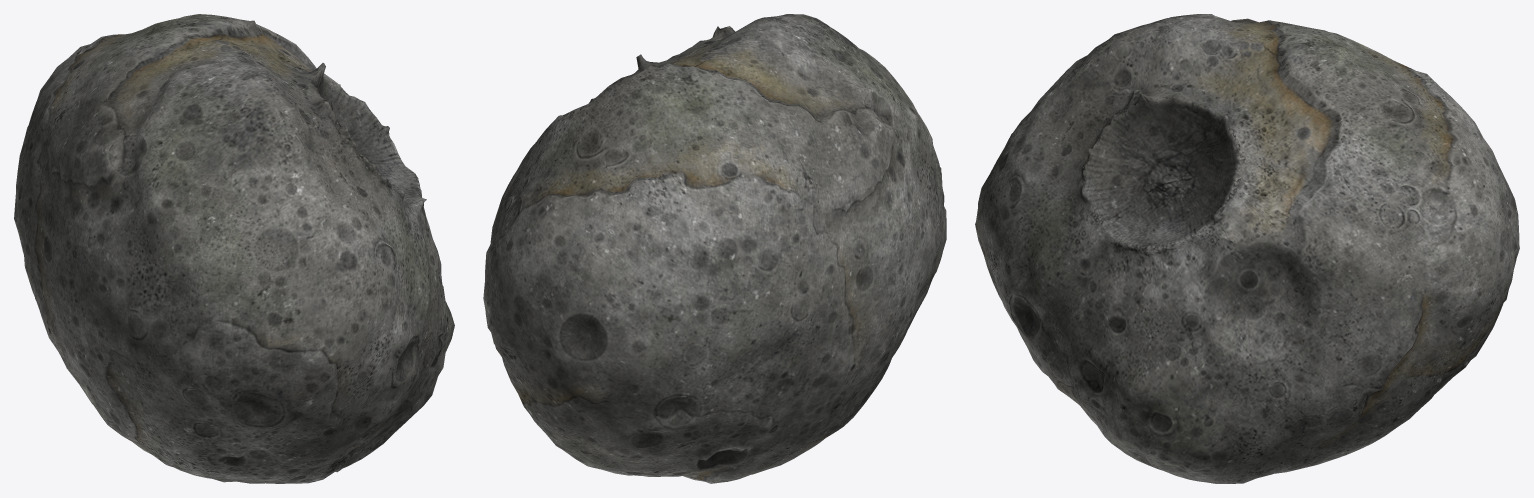
File: psyche_new.glb
3 renders of one model, left to right at view 1: azimuth 30°, elevation 25°; view 2: azimuth 150°, elevation 25°; view 3: azimuth 270°, elevation 25°, orthographic. The views are drawn at different scales.
Visible parts, largest first — view 1: psyche_LP.001; view 2: psyche_LP.001; view 3: psyche_LP.001.
Boxes of the visible parts, left/top/right/bottom form: psyche_LP.001: left=14, top=14, right=454, bottom=483; psyche_LP.001: left=483, top=14, right=946, bottom=483; psyche_LP.001: left=975, top=14, right=1519, bottom=483.
Bounding box in the file's own units: 8.5 × 10.15 × 11.97.
Materials: 1 (1 with a texture image).
